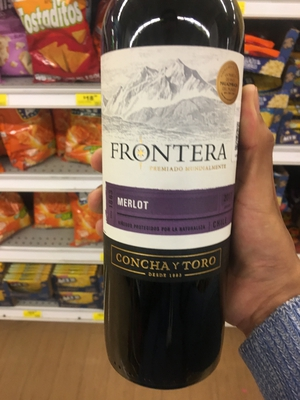frontera merlot: (90, 10, 253, 371)
